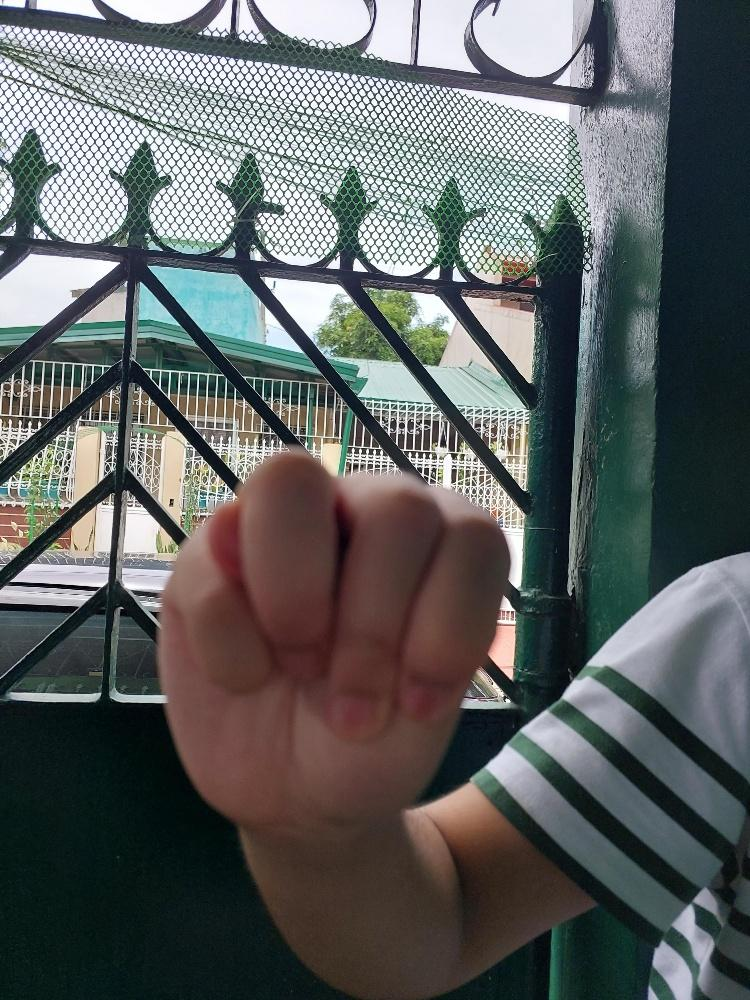m: (152, 442, 514, 837)
